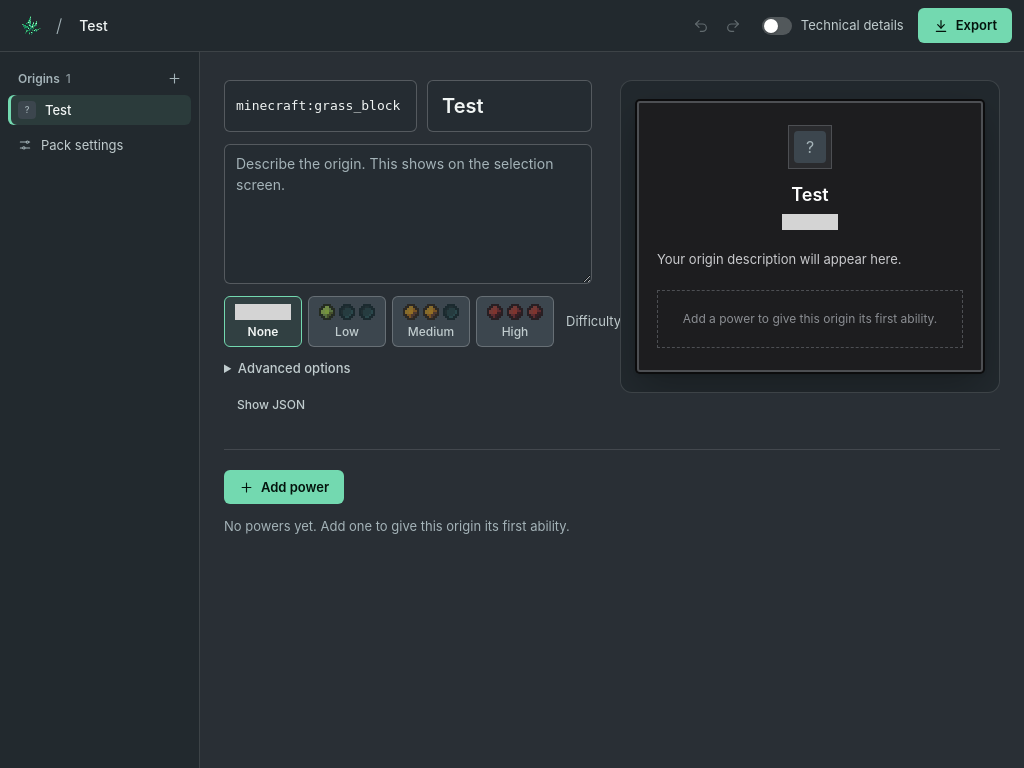
Test case: workshop › deletes a cooldown everywhere and restores it with undo
Click the button "Add power" at (284, 487), box [224,470,344,504]
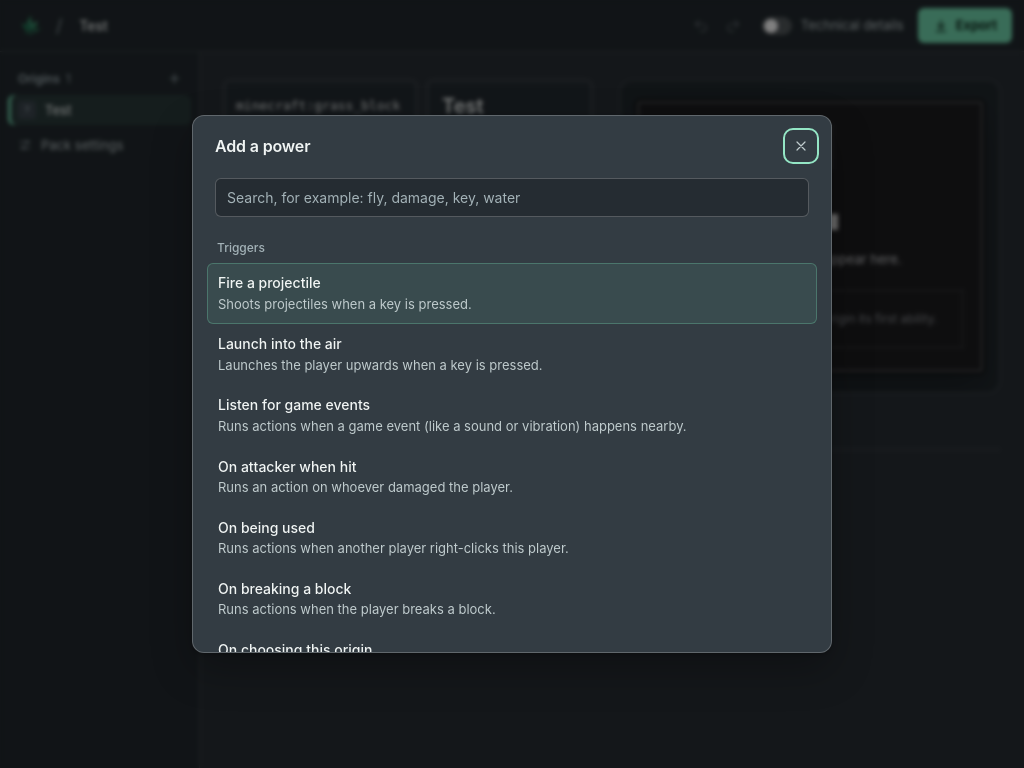
Type "use a key" into the dropdown at (512, 198), box [215,178,809,217]
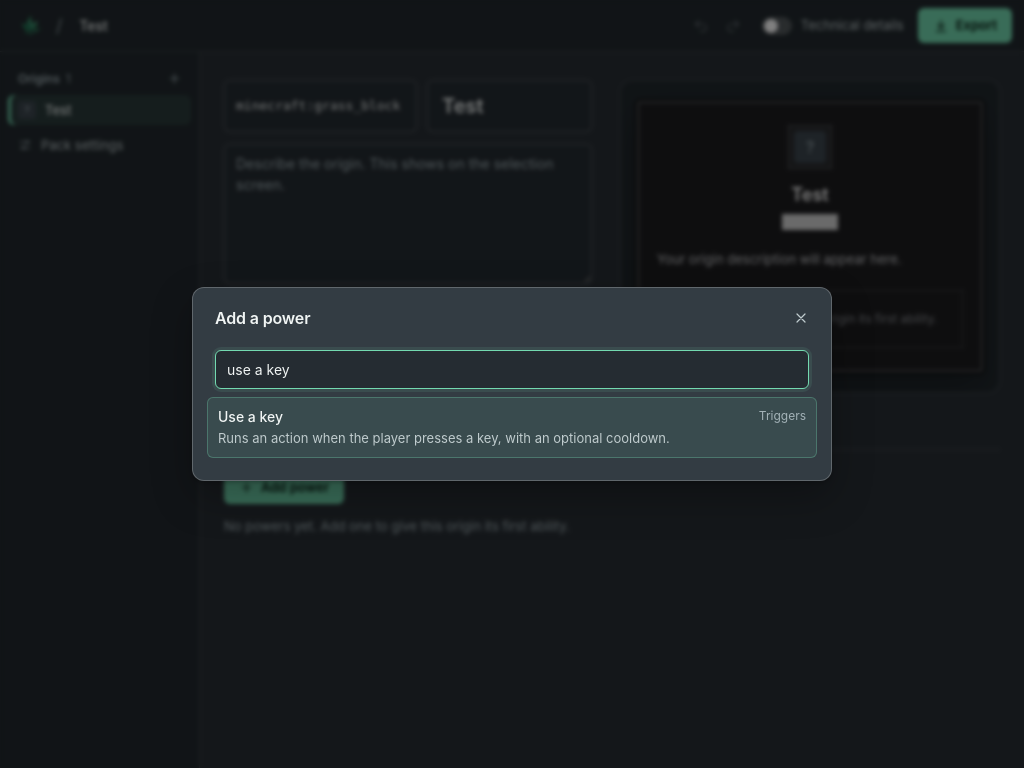
Click the option "Use a key" at (512, 428), box [207,397,817,458]
(page scrolled)
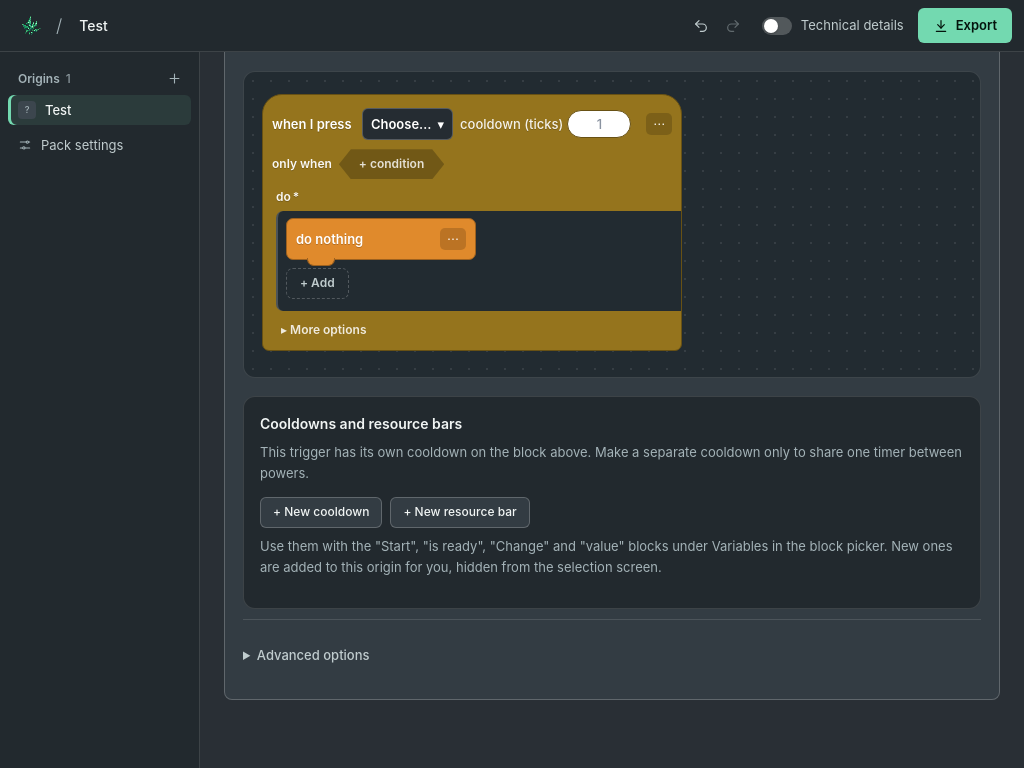
Click the button "+ New cooldown" at (321, 513), box [260,498,382,528]
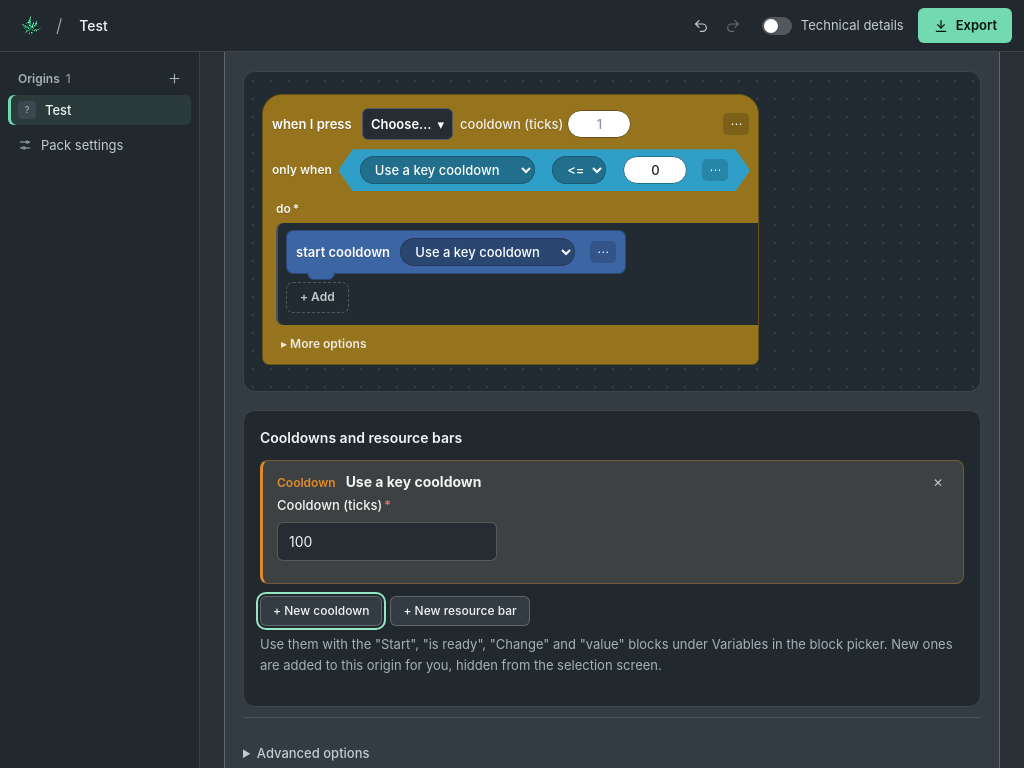
Click the button named "Delete everywhere" at (938, 483), box [927,471,949,496]
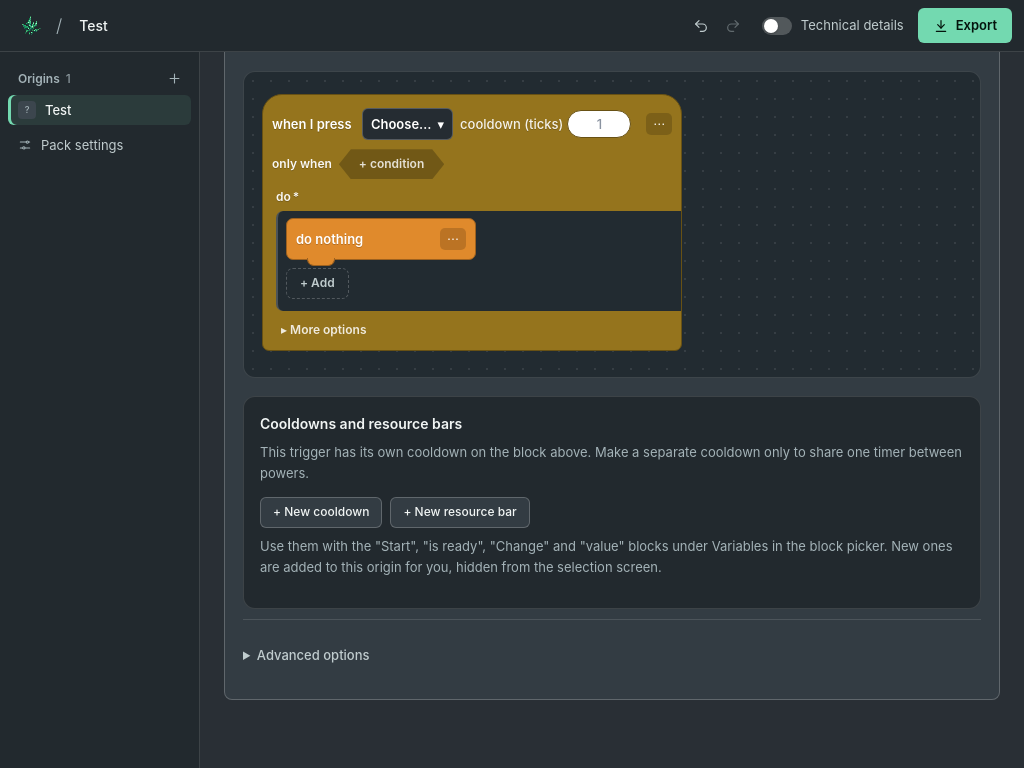
Click the button named "Undo" at (701, 26), box [686,10,716,40]
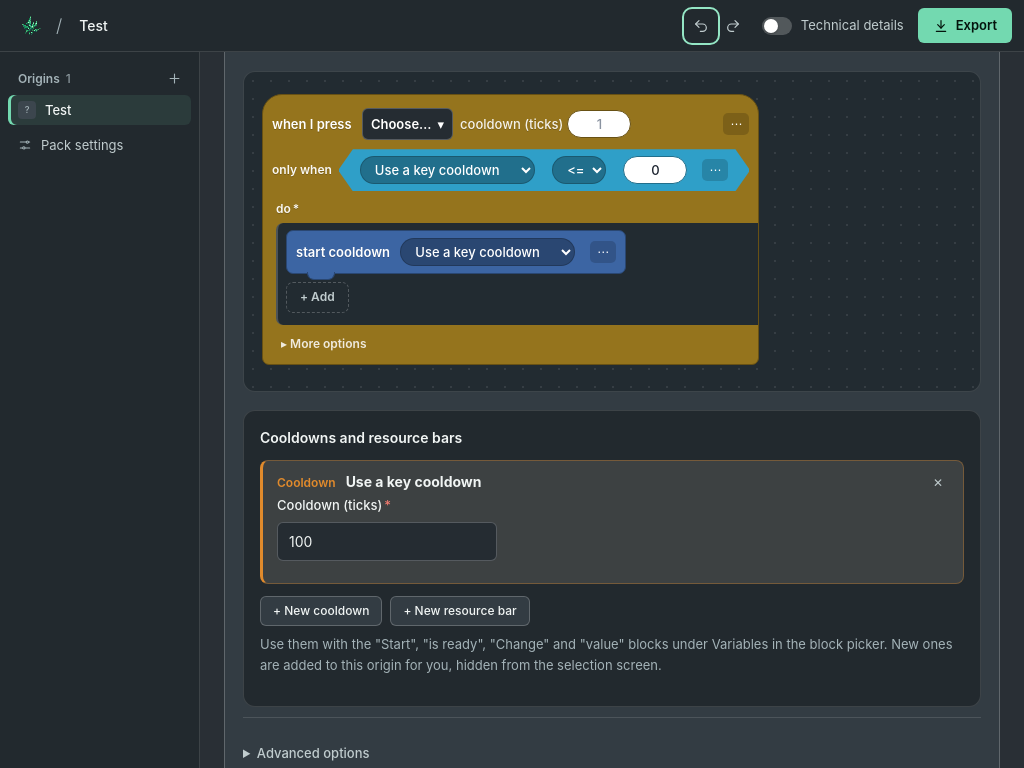
Now the button named "Delete everywhere" is shown, box [927,471,949,496]
